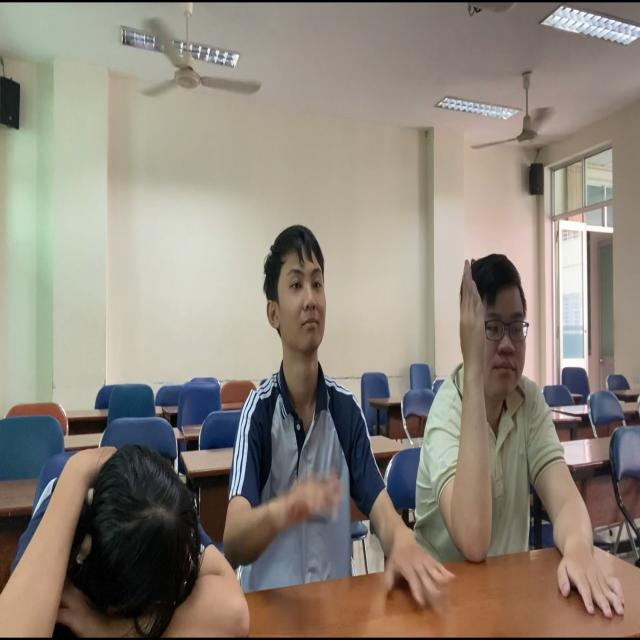raise_hand: (413, 233, 587, 588)
sleep: (1, 427, 256, 640)
